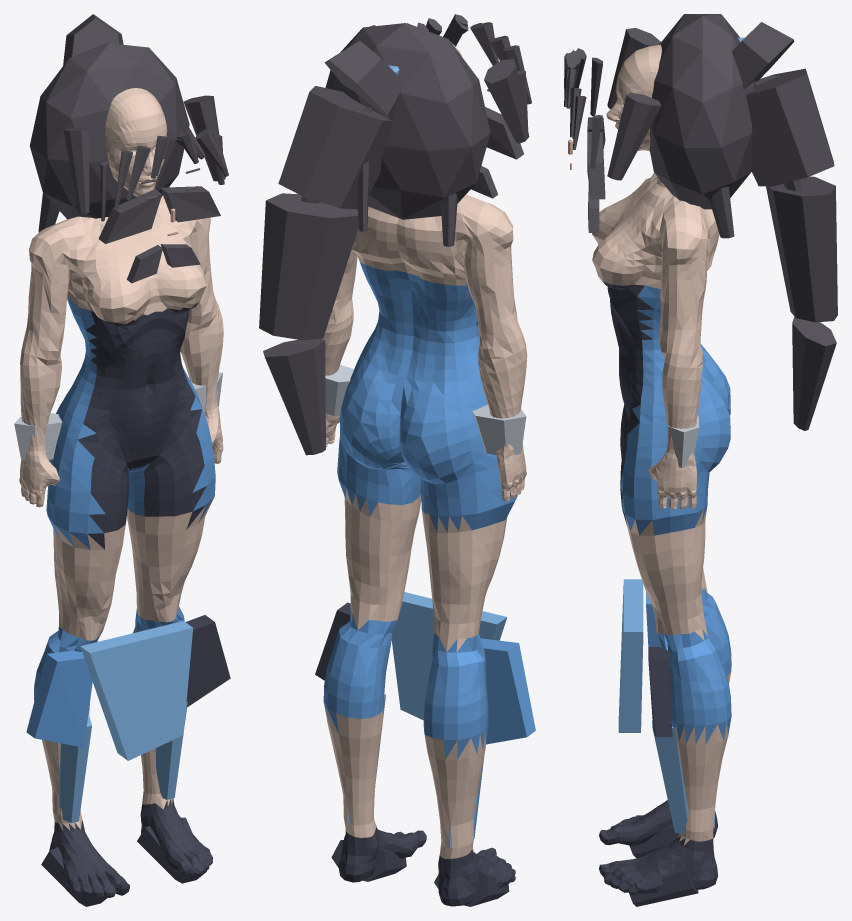
File: sera-blender-runtime.glb
3 renders of one model, left to right at view 1: azimuth 30°, elevation 25°; view 2: azimuth 150°, elevation 25°; view 3: azimuth 270°, elevation 25°, orthographic. The views are drawn at different scales.
Visible parts, largest first — view 1: Runtime_SERA_Body_Base, Runtime_SERA_HairCap, Runtime_SERA_FrontSkirt, Runtime_SERA_LeftSkirt, Runtime_SERA_Body_UpperArm_r, Runtime_SERA_Body_Shoulder_r, Runtime_SERA_Body_Forearm_r, Runtime_SERA_Body_Forearm_l, Runtime_SERA_RightSkirt, Runtime_SERA_Shin_r, Runtime_SERA_HairlineL, Runtime_SERA_SideHairL (+17 smaller); view 2: Runtime_SERA_Body_Base, Runtime_SERA_HairCap, Runtime_SERA_Pony2, Runtime_SERA_Pony1, Runtime_SERA_Body_UpperArm_r, Runtime_SERA_Pony3, Runtime_SERA_FrontSkirt, Runtime_SERA_LeftSkirt, Runtime_SERA_Body_Forearm_r, Runtime_SERA_PonyRoot, Runtime_SERA_SideHairL, Runtime_SERA_Body_Shoulder_r (+12 smaller); view 3: Runtime_SERA_Body_Base, Runtime_SERA_HairCap, Runtime_SERA_Pony2, Runtime_SERA_Pony1, Runtime_SERA_Body_UpperArm_l, Runtime_SERA_Body_Shoulder_l, Runtime_SERA_Pony3, Runtime_SERA_FrontSkirt, Runtime_SERA_Body_Forearm_l, Runtime_SERA_SideHairR, Runtime_SERA_PonyRoot, Runtime_SERA_Shin_l (+8 smaller).
Boxes of the visible parts, <box> form: Runtime_SERA_Body_Base: <box>34,88,215,897</box>; Runtime_SERA_HairCap: <box>30,43,189,219</box>; Runtime_SERA_FrontSkirt: <box>80,621,193,760</box>; Runtime_SERA_LeftSkirt: <box>26,650,92,747</box>; Runtime_SERA_Body_UpperArm_r: <box>21,226,69,359</box>; Runtime_SERA_Body_Shoulder_r: <box>44,216,143,289</box>; Runtime_SERA_Body_Forearm_r: <box>20,348,61,463</box>; Runtime_SERA_Body_Forearm_l: <box>180,305,223,414</box>; Runtime_SERA_RightSkirt: <box>185,615,230,707</box>; Runtime_SERA_Shin_r: <box>59,714,91,823</box>; Runtime_SERA_HairlineL: <box>98,189,161,243</box>; Runtime_SERA_SideHairL: <box>63,127,89,213</box>; Runtime_SERA_Body_Base: <box>323,43,517,906</box>; Runtime_SERA_HairCap: <box>325,23,490,219</box>; Runtime_SERA_Pony2: <box>259,193,358,340</box>; Runtime_SERA_Pony1: <box>278,86,393,209</box>; Runtime_SERA_Body_UpperArm_r: <box>461,203,522,348</box>; Runtime_SERA_Pony3: <box>263,339,325,455</box>; Runtime_SERA_FrontSkirt: <box>391,592,507,720</box>; Runtime_SERA_LeftSkirt: <box>480,638,535,744</box>; Runtime_SERA_Body_Forearm_r: <box>478,334,527,462</box>; Runtime_SERA_PonyRoot: <box>324,40,403,120</box>; Runtime_SERA_SideHairL: <box>484,59,529,143</box>; Runtime_SERA_Body_Shoulder_r: <box>424,195,503,270</box>; Runtime_SERA_Body_Base: <box>592,44,731,895</box>; Runtime_SERA_HairCap: <box>649,14,756,209</box>; Runtime_SERA_Pony2: <box>766,176,837,322</box>; Runtime_SERA_Pony1: <box>746,68,834,186</box>; Runtime_SERA_Body_UpperArm_l: <box>659,216,707,355</box>; Runtime_SERA_Body_Shoulder_l: <box>617,178,717,267</box>; Runtime_SERA_Pony3: <box>792,316,836,430</box>; Runtime_SERA_FrontSkirt: <box>618,579,643,732</box>; Runtime_SERA_Body_Forearm_l: <box>661,343,702,471</box>; Runtime_SERA_SideHairR: <box>607,92,661,180</box>; Runtime_SERA_PonyRoot: <box>731,22,794,89</box>; Runtime_SERA_Shin_l: <box>652,720,714,833</box>.
Bounding box in the file's own units: 0.2951 × 1.12 × 0.3213.
